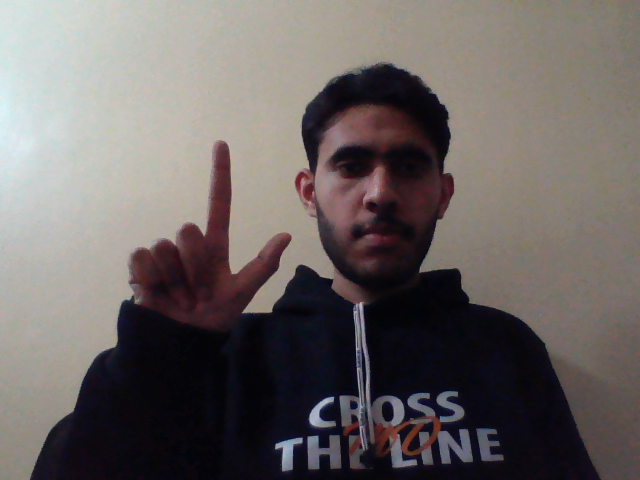L: (126, 134, 293, 343)
